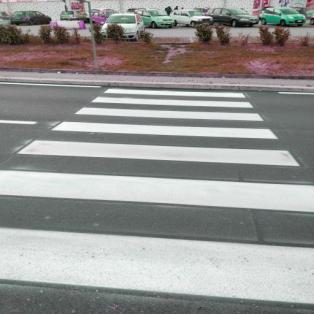Paso de Cebra: (0, 138, 314, 218), (71, 95, 269, 124)
